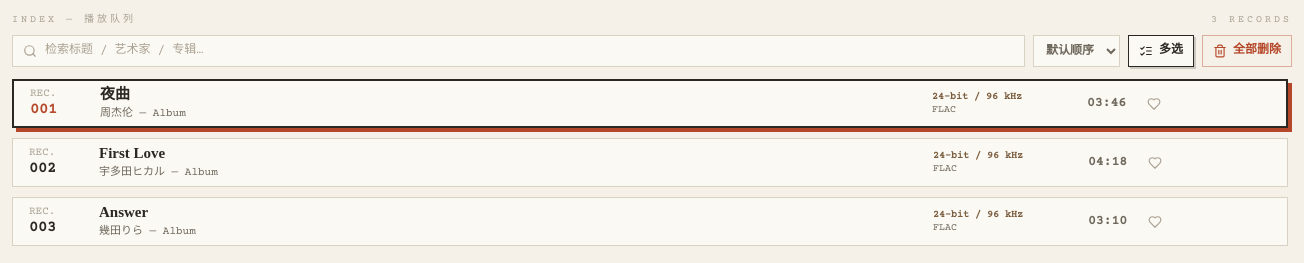
TrackRows › 检索过滤曲目并显示匹配计数
Step 1. Type "first" into the field named "检索曲目" → (530, 51), box [45,43,1014,59]
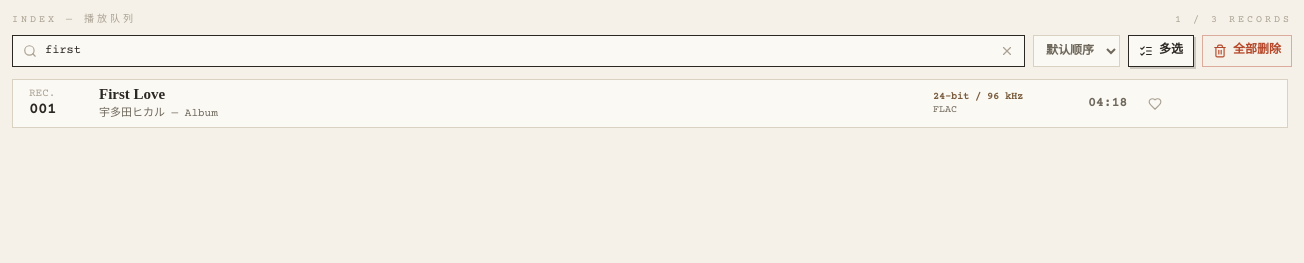
expect the text "First Love" is shown: met, box [99,85,165,104]
expect the button "夜曲" is gone: met
expect the text "1 / 3 RECORDS" is shown: met, box [1175,12,1292,27]
